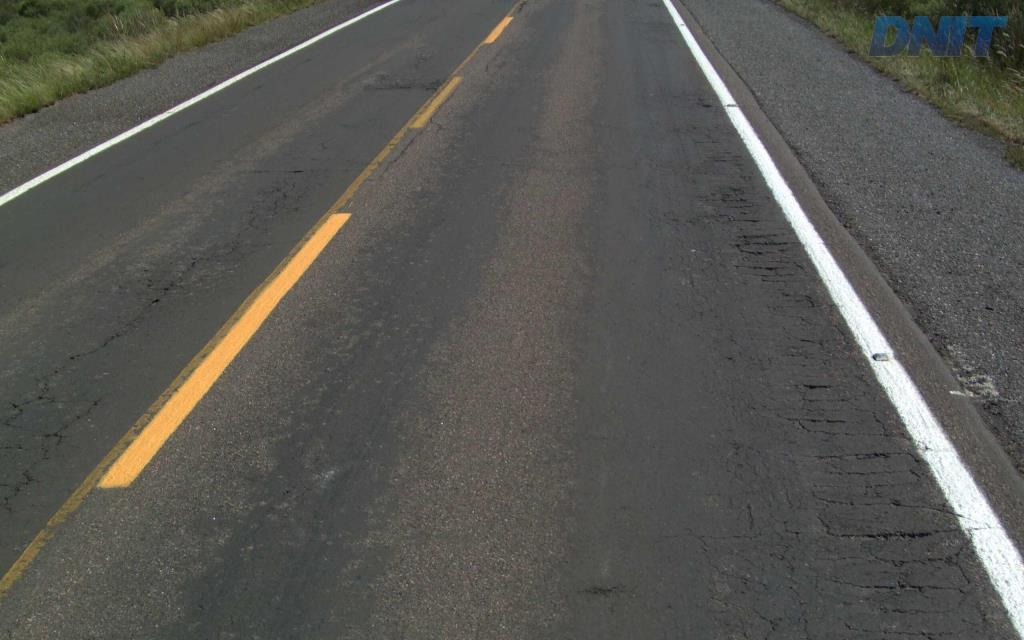crack: (817, 513, 932, 544)
